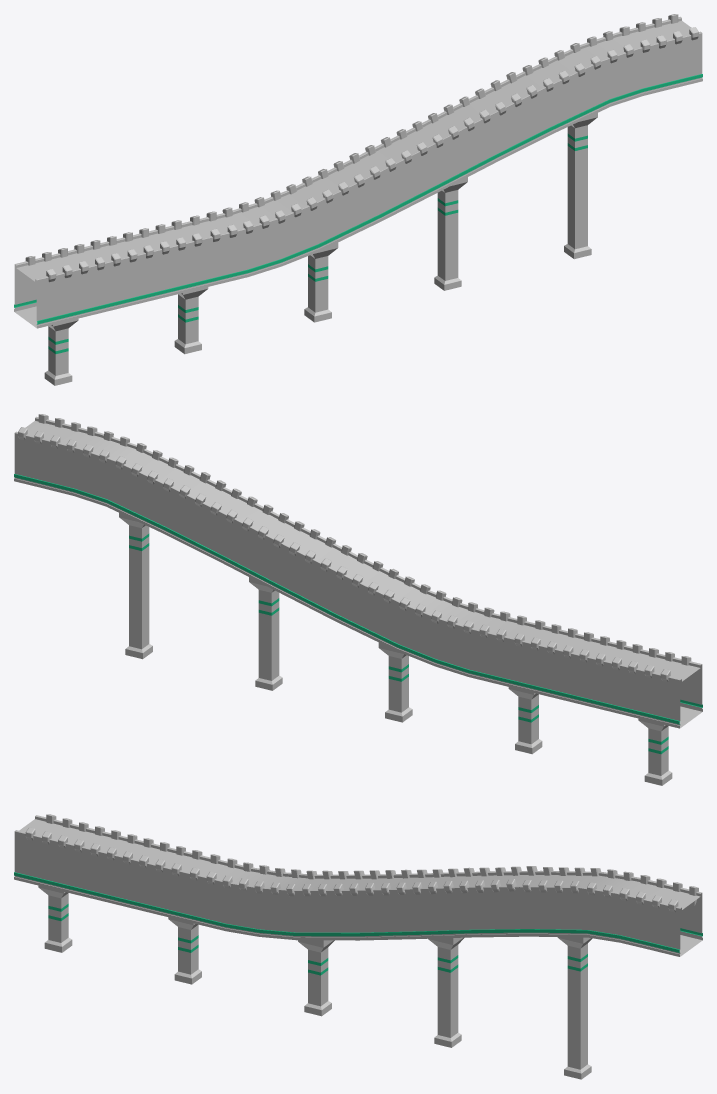
The model's file is Tower_mega_wall_riser_end.fbx.
3 views of the same model, one above another, from view 1: azimuth 30°, elevation 25°; view 2: azimuth 150°, elevation 25°; view 3: azimuth 330°, elevation 25° (orthographic).
Visible parts, largest first — view 1: tower_mega_wall_riser_end; view 2: tower_mega_wall_riser_end; view 3: tower_mega_wall_riser_end.
Part boxes in pixels (<box>): tower_mega_wall_riser_end: <box>14,14,702,385</box>; tower_mega_wall_riser_end: <box>14,414,702,785</box>; tower_mega_wall_riser_end: <box>14,814,702,1079</box>.
Bounding box in the file's own units: 2423 × 718 × 154.
